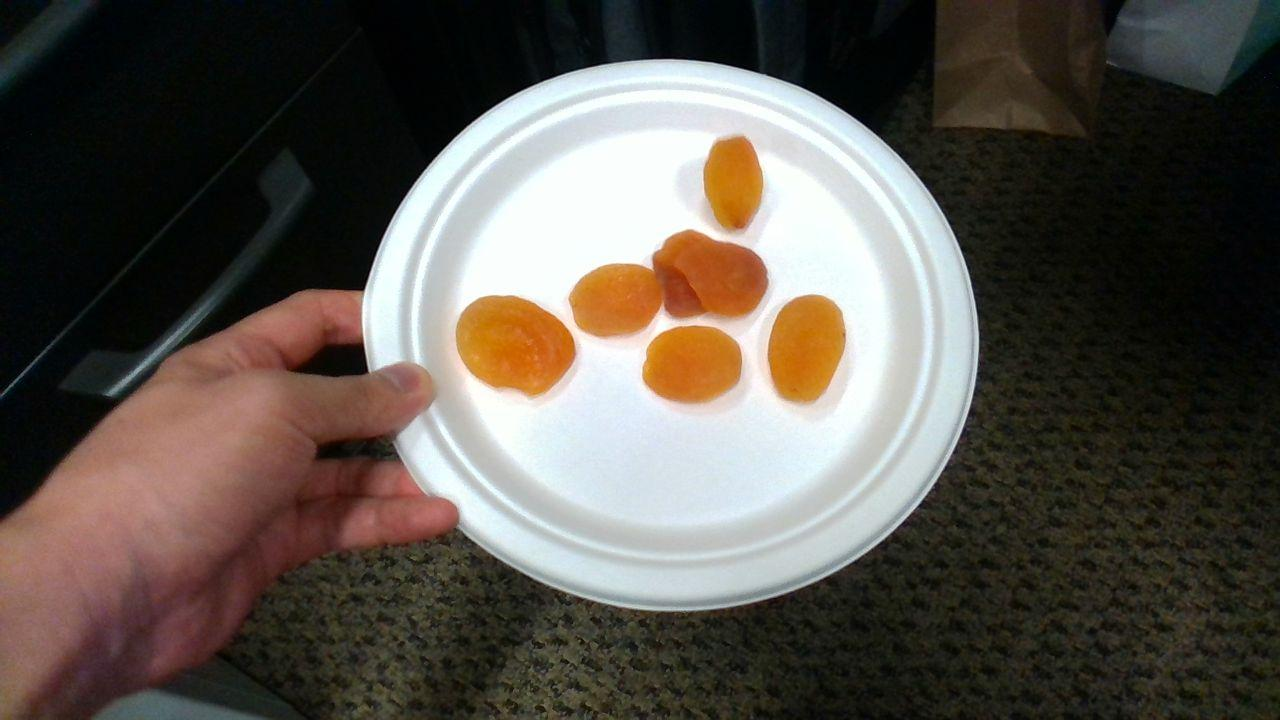apricot: (457, 296, 576, 396), (653, 230, 768, 318), (768, 296, 845, 403), (642, 326, 743, 403), (570, 264, 661, 335), (703, 137, 764, 230)
